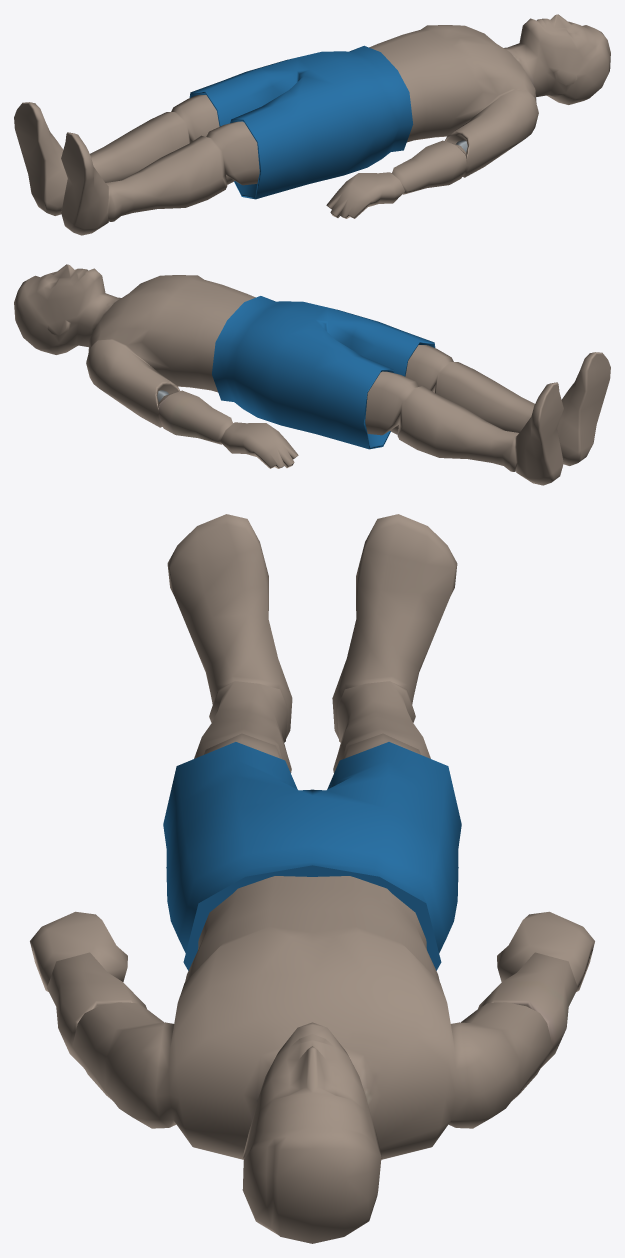
3 renders of one model, top to bottom at view 1: azimuth 30°, elevation 25°; view 2: azimuth 150°, elevation 25°; view 3: azimuth 270°, elevation 25°, orthographic. The views are drawn at different scales.
Size of the model in its own units: 19.31 by 3.61 by 8.5.
2 materials, 2 textured.
